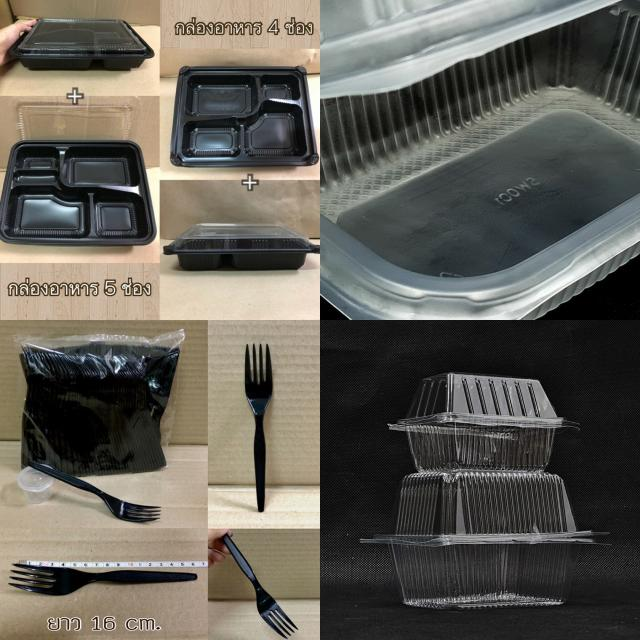Single-Use-Plastic: (321, 0, 640, 319), (361, 470, 605, 609), (390, 372, 578, 471), (0, 141, 155, 245), (170, 66, 319, 167), (221, 534, 298, 639), (29, 462, 160, 522), (10, 19, 154, 69), (164, 224, 320, 270), (9, 564, 198, 595), (245, 344, 272, 512)
